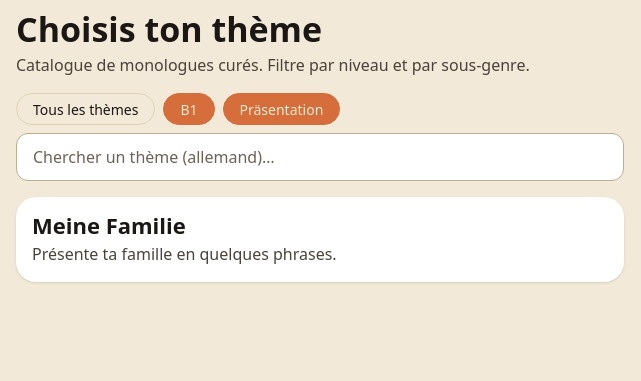
TopicPickerScreen — sprechen monologue topic picker (S7 Task 7.6) › LevelPopover: ArrowDown then Enter moves the roving highlight and selects the next enabled level
Check: the button with test id "sprechen-topic-card-t1" is shown, box top-left (16, 197), bottom-right (624, 282)
Click the button with test id "sprechen-topic-picker-level" at (189, 109), box top-left (163, 93), bottom-right (214, 125)
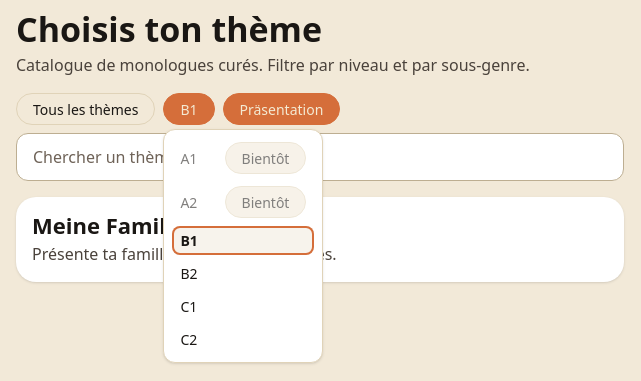
Press ArrowDown in the list with test id "sprechen-topic-picker-level-listbox", box top-left (163, 129), bottom-right (323, 363)
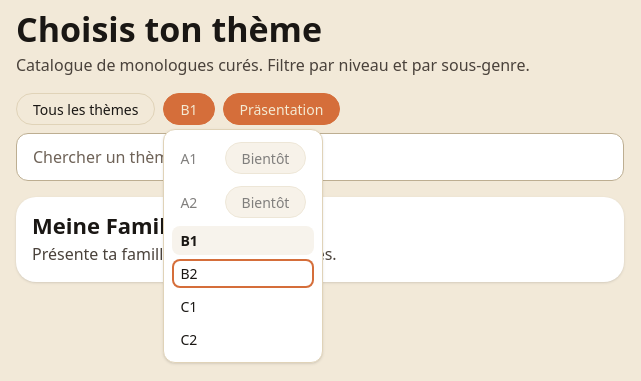
Press Enter in the list with test id "sprechen-topic-picker-level-listbox", box top-left (163, 129), bottom-right (323, 363)
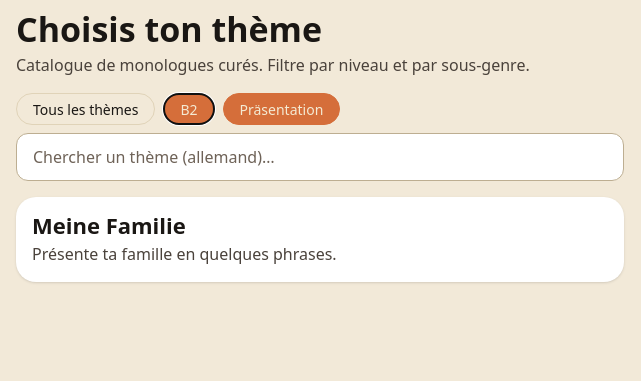
Check: the list with test id "sprechen-topic-picker-level-listbox" is gone
Check: the button with test id "sprechen-topic-picker-level" reads "B2", box top-left (163, 93), bottom-right (214, 125)
